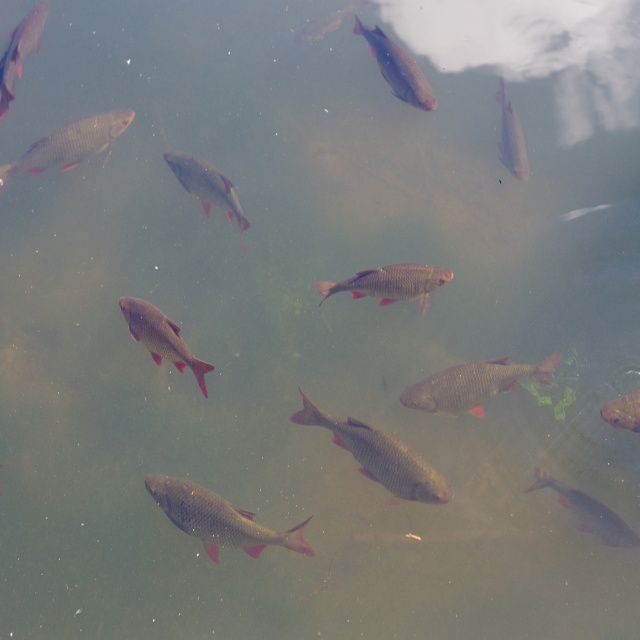Fish: (290, 389, 453, 505), (144, 469, 317, 557), (1, 112, 135, 197), (400, 357, 560, 426), (118, 294, 212, 402), (525, 472, 640, 555), (352, 13, 439, 118), (315, 257, 457, 312), (162, 151, 250, 231), (0, 0, 48, 124), (493, 76, 532, 183), (300, 8, 352, 48), (598, 392, 640, 435)
